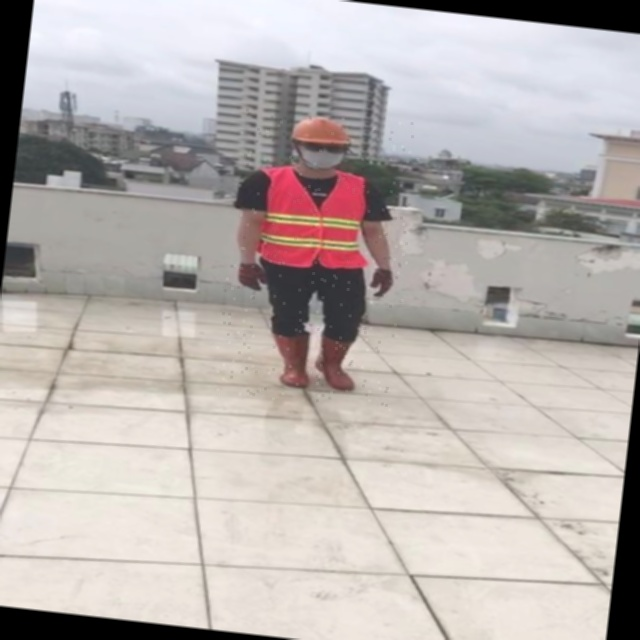boots: (274, 336, 316, 390), (318, 332, 358, 387)
gloves: (212, 252, 283, 298), (354, 254, 406, 289)
helmet: (268, 118, 330, 146)
vest: (248, 171, 358, 268)
